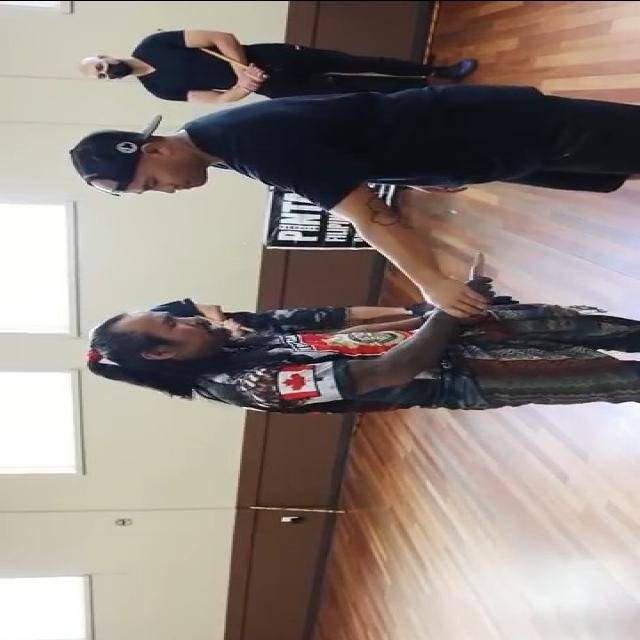Sharp-Object: (465, 252, 495, 312)
